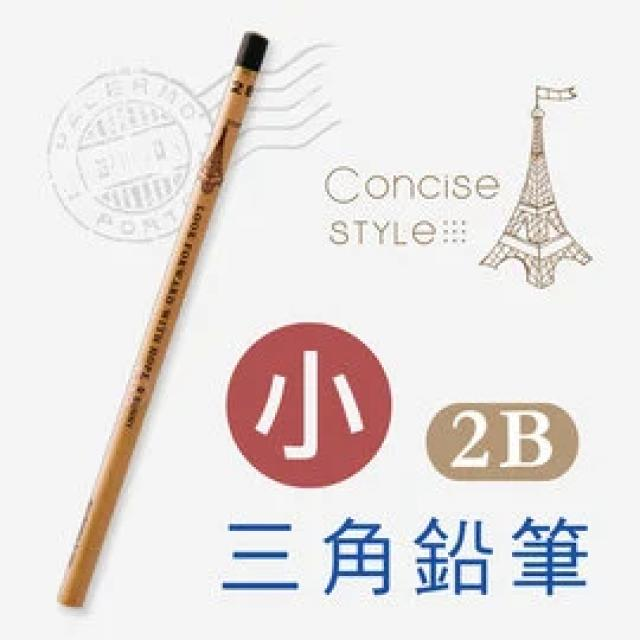pencil: (45, 27, 280, 623)
